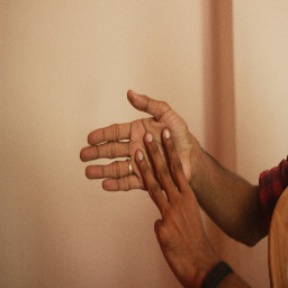M: (76, 85, 198, 215)
